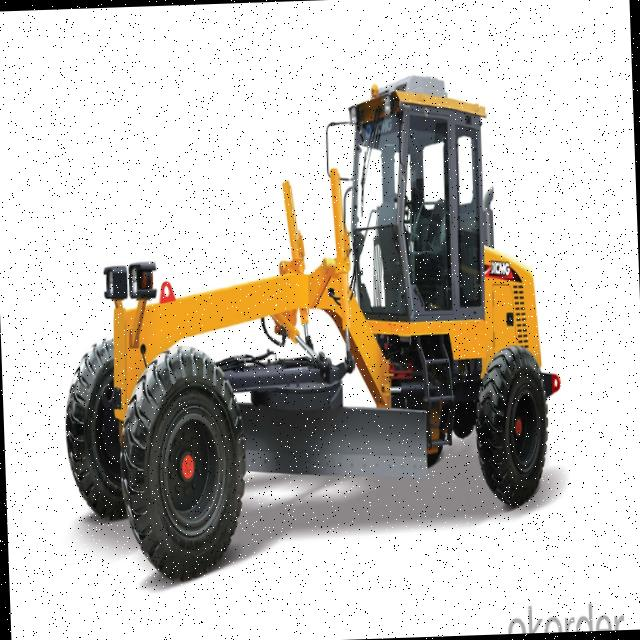Grader: (31, 61, 574, 584)
